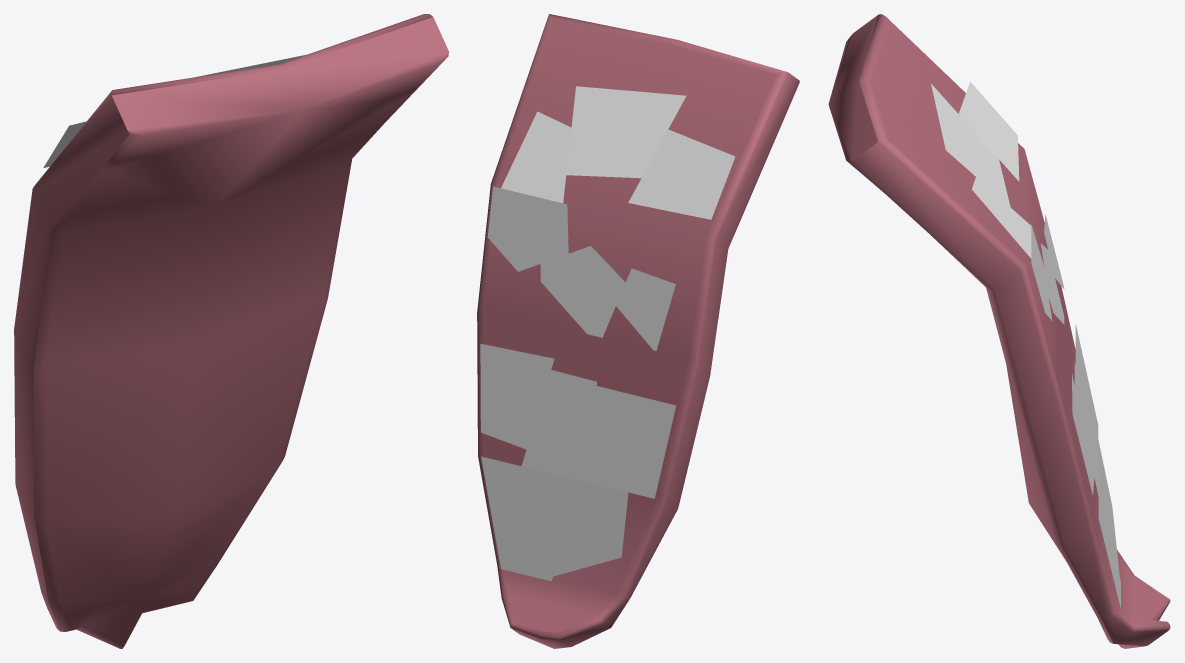
Rendered from tongue (1).fbx.
The picture shows the model from 3 angles, left to right: view 1: azimuth 30°, elevation 25°; view 2: azimuth 150°, elevation 25°; view 3: azimuth 270°, elevation 25°; orthographic projection. The views are drawn at different scales.
Visible parts, largest first — view 1: dil; view 2: dil, kir.003, kir.001, kir, kir.007, kir.009, kir.010, kir.004, kir.005, kir.006, kir.002, kir.008; view 3: dil, kir.001, kir.007, kir.002, kir.003, kir, kir.009, kir.004, kir.010, kir.005, kir.006.
Part boxes in pixels (box(x1,y1,x2,y2)): dil: box(14, 14, 448, 648); dil: box(477, 14, 799, 648); kir.003: box(481, 456, 584, 581); kir.001: box(566, 86, 686, 178); kir: box(585, 386, 676, 498); kir.007: box(628, 129, 735, 219); kir.009: box(521, 370, 596, 481); kir.010: box(480, 343, 554, 449); kir.004: box(487, 186, 568, 271); kir.005: box(540, 246, 625, 337); kir.006: box(553, 482, 628, 576); kir.002: box(501, 111, 571, 203); kir.008: box(616, 268, 675, 350); dil: box(828, 14, 1170, 648); kir.001: box(931, 83, 1010, 206); kir.007: box(958, 81, 1019, 181); kir.002: box(972, 177, 1031, 258); kir.003: box(1098, 463, 1120, 608); kir: box(1075, 324, 1098, 461); kir.009: box(1074, 362, 1098, 496); kir.004: box(1031, 224, 1052, 320); kir.010: box(1072, 374, 1094, 495); kir.005: box(1040, 243, 1064, 324); kir.006: box(1098, 440, 1119, 574).
Bounding box in the file's own units: 10.12 × 21.21 × 11.5.
